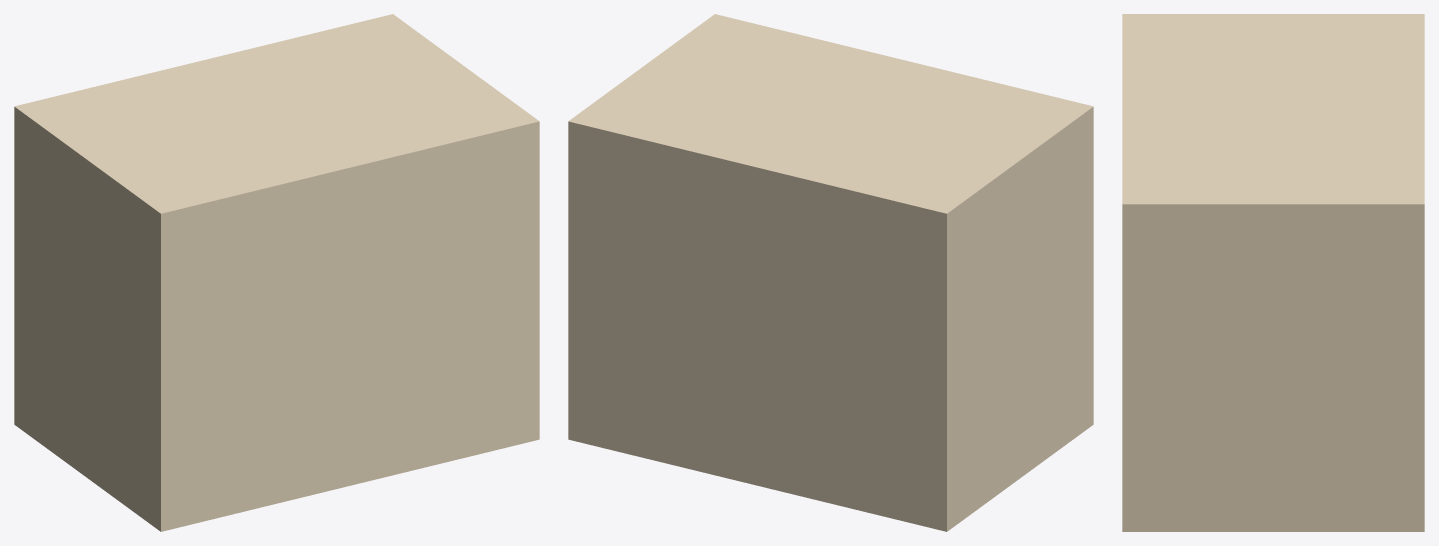
Rendered from natural.glb.
The picture shows the model from 3 angles, left to right: view 1: azimuth 30°, elevation 25°; view 2: azimuth 150°, elevation 25°; view 3: azimuth 270°, elevation 25°; orthographic projection. The views are drawn at different scales.
Parts seen in each view (by area): view 1: front_back.2, top_bottom.2, side.1, side.2, top_bottom.1; view 2: front_back.1, top_bottom.2, side.1, side.2, top_bottom.1; view 3: side.2, top_bottom.2, side.1.
Part boxes in pixels (x1,y1,x2,y2): front_back.2: [170, 133, 530, 520]; top_bottom.2: [23, 16, 530, 220]; side.1: [14, 104, 169, 531]; side.2: [384, 14, 539, 441]; top_bottom.1: [170, 432, 530, 529]; front_back.1: [577, 133, 937, 520]; top_bottom.2: [577, 16, 1084, 220]; side.1: [938, 104, 1093, 531]; side.2: [568, 14, 723, 441]; top_bottom.1: [577, 432, 937, 529]; side.2: [1122, 200, 1424, 531]; top_bottom.2: [1122, 18, 1424, 199]; side.1: [1122, 14, 1424, 18].
Bounding box in the file's own units: 0.76 × 0.61 × 0.51.
